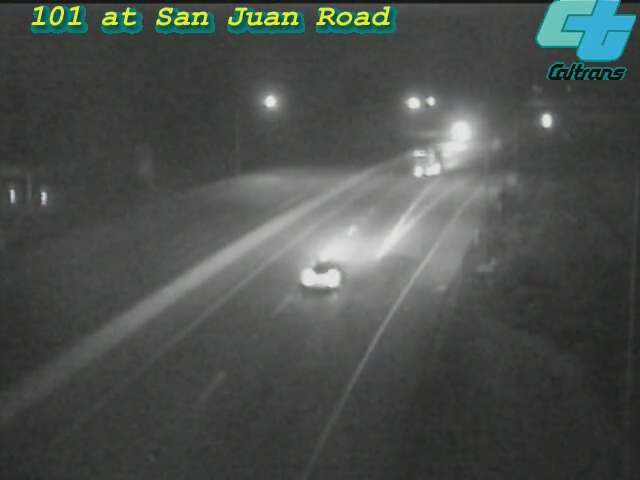vehicle: (288, 231, 368, 311), (433, 104, 483, 154), (520, 97, 570, 147), (432, 120, 482, 170), (402, 135, 452, 185)
